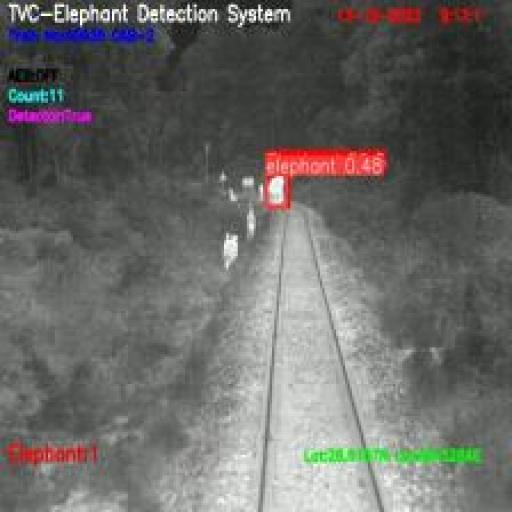Elephant: (265, 174, 286, 206)
